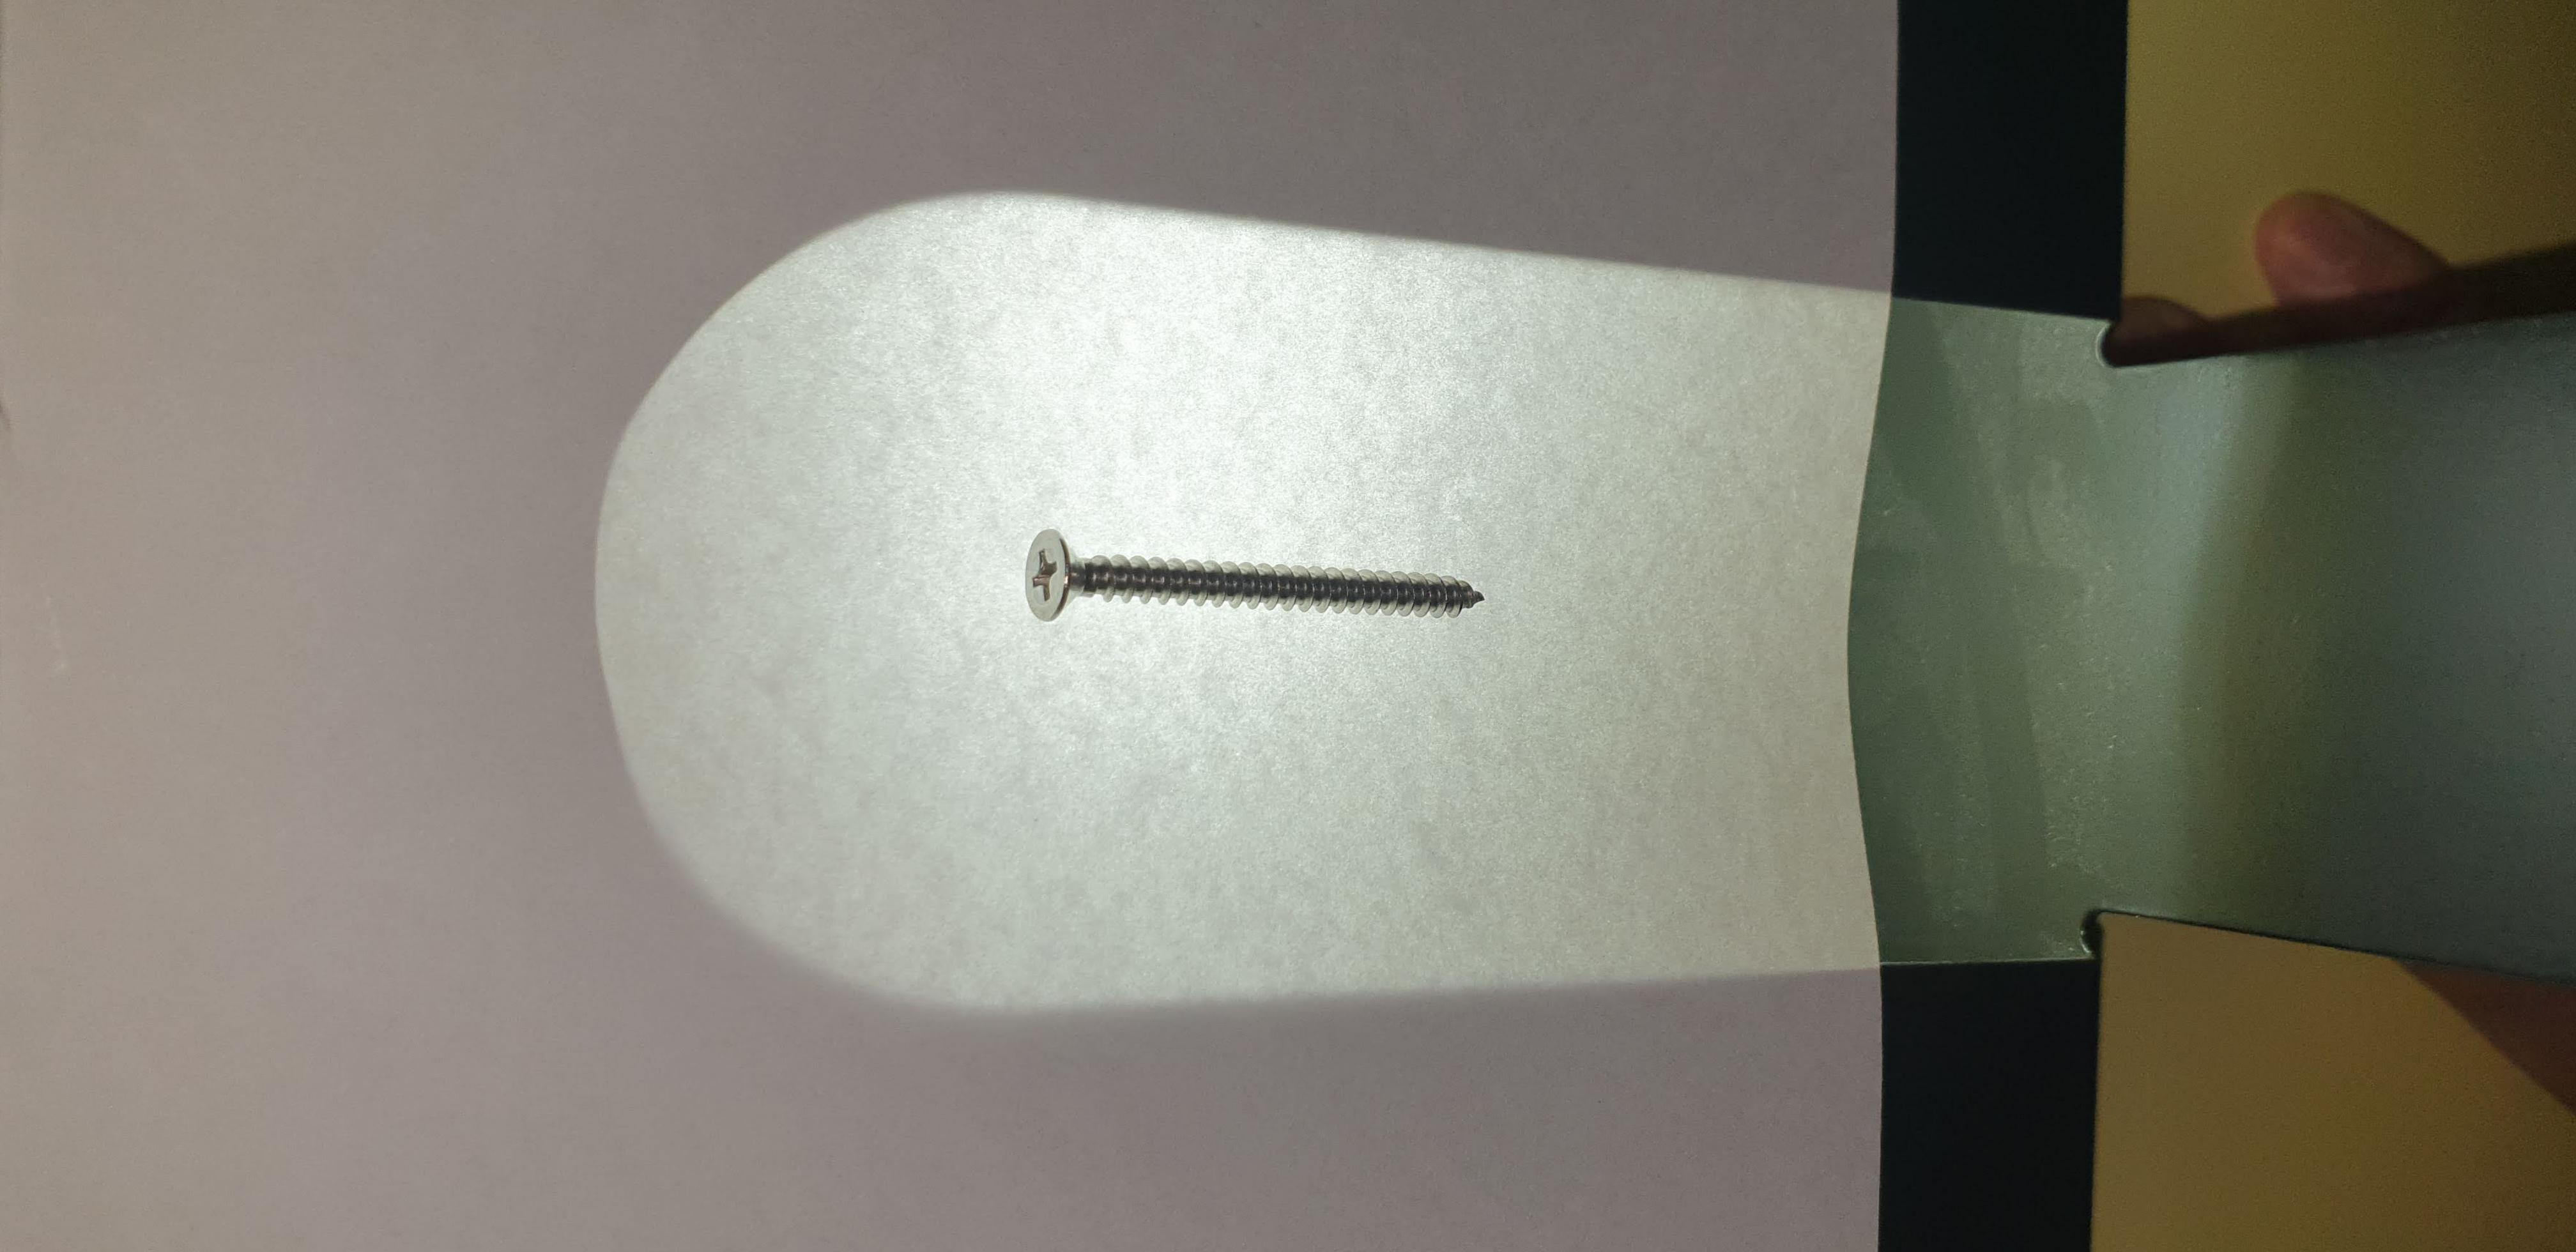fastener: (910, 419, 1531, 726)
